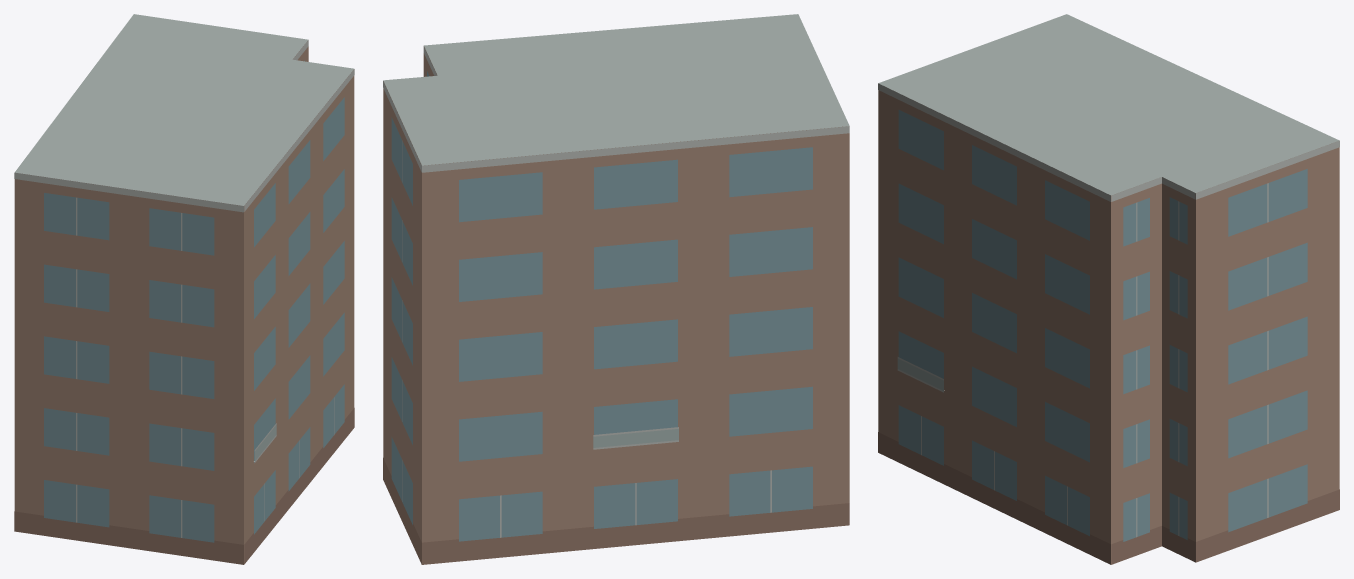
File: survey-upis-32882473.glb
3 renders of one model, left to right at view 1: azimuth 30°, elevation 25°; view 2: azimuth 150°, elevation 25°; view 3: azimuth 270°, elevation 25°, orthographic. The views are drawn at different scales.
Visible parts, largest first — view 1: survey-upis-32882473.tmp; view 2: survey-upis-32882473.tmp; view 3: survey-upis-32882473.tmp.
Boxes of the visible parts, bbox=[...] form: survey-upis-32882473.tmp: bbox=[14, 14, 354, 564]; survey-upis-32882473.tmp: bbox=[383, 14, 849, 564]; survey-upis-32882473.tmp: bbox=[878, 14, 1339, 564].
Size of the model in its own units: 14.34 by 13.6 by 15.41.
